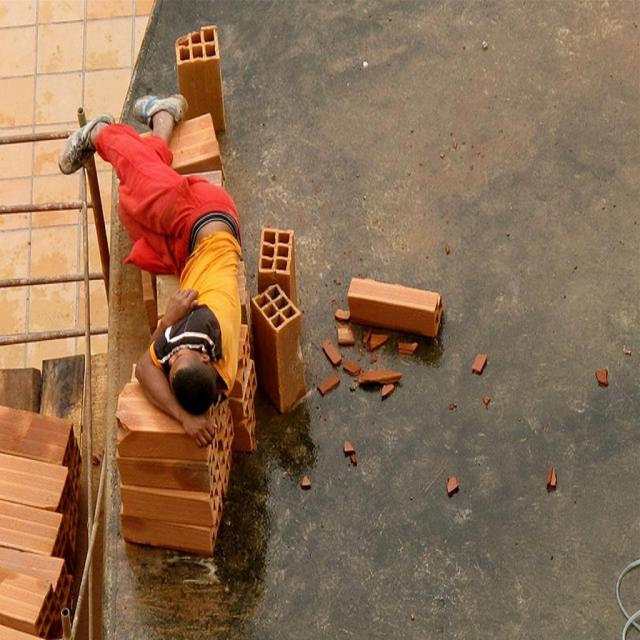nomask: (168, 347, 202, 390)
